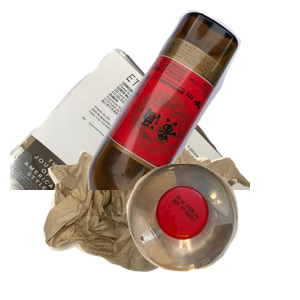glass: (85, 10, 300, 190)
paper: (10, 46, 250, 226)
plastic: (124, 161, 300, 300)
trash: (40, 138, 280, 300)
